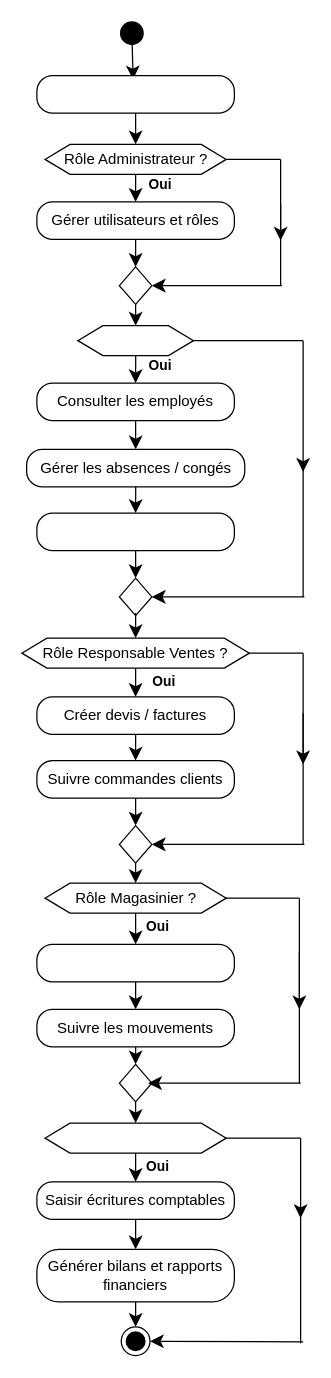
This 331x1378 diagram has some shape labels left out. Here are the shapes that lost their labels. From the top down, the box of each, then its label:
(36, 74, 234, 113): Connexion utilisateur
(77, 324, 194, 356): Rôle RH ?
(36, 512, 234, 551): Générer fiche de paie
(36, 943, 234, 982): Gérer le stock
(44, 1122, 226, 1153): Rôle Comptable ?
